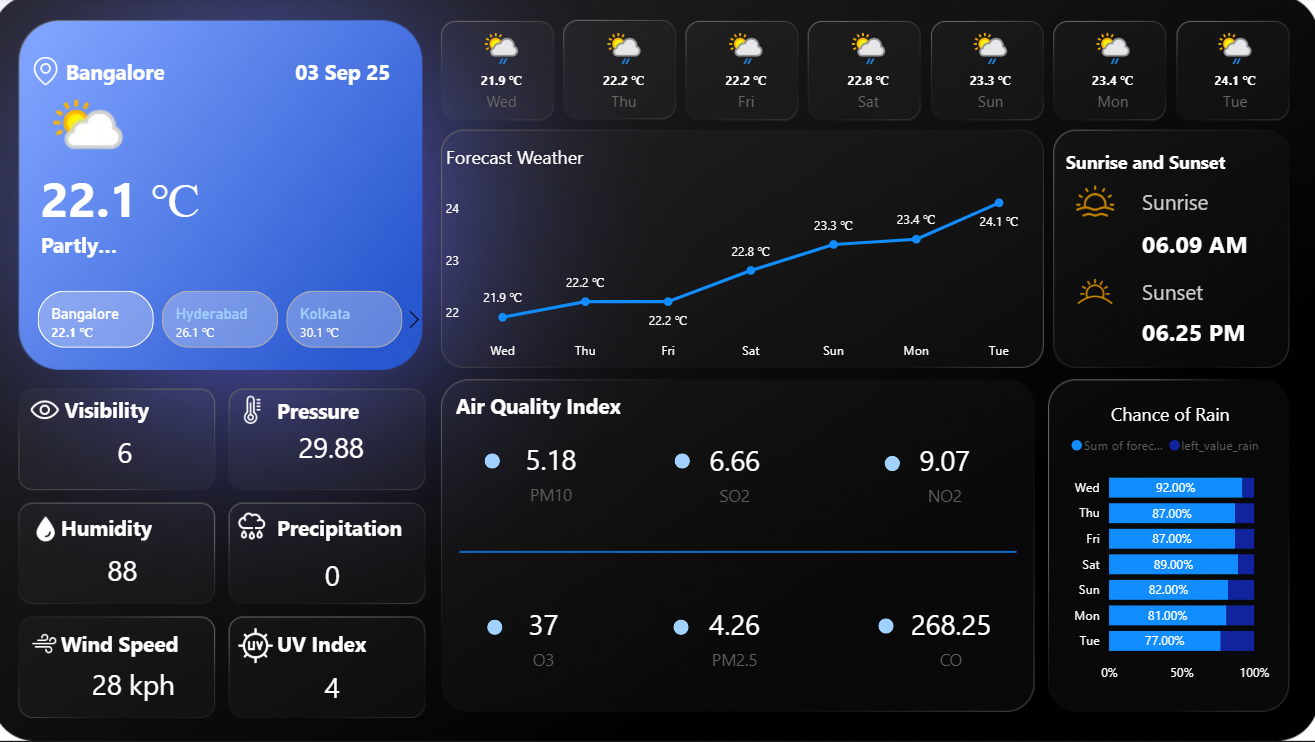

The page's visual inventory and layout, read from the dashboard file:
{"tool":"powerbi","page":{"name":"Page 1","canvas":[1280,720],"ordinal":0},"visuals":[{"type":"advancedSlicerVisual","fields":{"Values":["Locations.location.name"]},"box":[19.7,278.7,403.3,65.4],"z":0},{"type":"shape","box":[47.1,117.9,256.4,150.3],"z":1000},{"type":"shape","box":[47.1,219.5,116.4,36.8],"z":2000},{"type":"shape","box":[70.7,53,116.4,36.8],"z":3000},{"type":"shape","box":[268.1,53,116.4,36.8],"z":4000},{"type":"image","box":[32.4,53,38.3,36.8],"z":5000},{"type":"cardVisual","fields":{"Data":["Min(current.current.condition.icon)"]},"box":[32.1,71.5,106.1,102.4],"z":6000},{"type":"image","box":[18.5,377.4,65.4,41.9],"z":7000},{"type":"shape","box":[70.3,382.3,108.5,30.8],"z":8000},{"type":"image","box":[32.1,495.8,38.2,35.8],"z":9000},{"type":"image","box":[228.2,379.9,46.9,37],"z":10000},{"type":"image","box":[21,606.8,60.4,34.5],"z":11000},{"type":"image","box":[214.6,603.1,78.9,45.6],"z":12000},{"type":"image","box":[214.6,489.7,72.8,41.9],"z":13000},{"type":"shape","box":[275,493.4,124.6,37],"z":14000},{"type":"shape","box":[66.6,608.1,119.6,30.8],"z":15000},{"type":"shape","box":[66.6,495.8,108.5,30.8],"z":16000},{"type":"shape","box":[275,383.6,108.5,30.8],"z":17000},{"type":"shape","box":[275,608.1,108.5,30.8],"z":18000},{"type":"card","fields":{"Values":["Sum(current.current.humidity)"]},"box":[82.6,526.7,87.6,55.5],"z":19000},{"type":"card","fields":{"Values":["_Measures.wind_speed"]},"box":[85.6,641.4,101.7,44.7],"z":20000},{"type":"card","fields":{"Values":["Sum(current.current.precip_in)"]},"box":[284.9,531.6,87.6,55.5],"z":21000},{"type":"card","fields":{"Values":["Sum(current.current.pressure_in)"]},"box":[283.7,408.2,87.6,55.5],"z":22000},{"type":"card","fields":{"Values":["Sum(current.current.vis_km)"]},"box":[83.9,413.2,87.6,55.5],"z":23000},{"type":"card","fields":{"Values":["Sum(current.current.uv)"]},"box":[284.9,638.9,87.6,55.5],"z":24000},{"type":"advancedSlicerVisual","fields":{"Values":["forecast_day.day_name"]},"box":[431.3,23.2,828.5,94.2],"z":25000},{"type":"lineChart","title":"Forecast Weather","fields":{"Y":["Sum(forecast_day.forecast.forecastday.day.avgtemp_c)"],"Category":["forecast_day.day_name"]},"box":[432.7,141.9,576,217],"z":26000},{"type":"shape","box":[1036,141.9,169.2,31.4],"z":27000},{"type":"shape","box":[1109.7,214.3,139.2,46.4],"z":28000},{"type":"shape","box":[1109.7,296.2,139.2,50.5],"z":29000},{"type":"shape","box":[1109.7,173.3,109.2,46.4],"z":30000},{"type":"shape","box":[1109.7,260.7,109.2,46.4],"z":31000},{"type":"image","box":[1008.7,256.6,111.9,54.6],"z":32000},{"type":"image","box":[1037.3,173.3,54.6,46.4],"z":33000},{"type":"hundredPercentStackedBarChart","title":"Chance of Rain","fields":{"Y":["Sum(forecast_day.forecast.forecastday.day.daily_chance_of_rain)","current.left_value_rain"],"Category":["forecast_day.day_name"]},"box":[1036,390.4,202,279.8],"z":34000},{"type":"shape","box":[447.7,379.4,181.5,28.7],"z":35000},{"type":"card","fields":{"Values":["Sum(current.current.air_quality.pm10)"]},"box":[490,423.1,99.6,69.6],"z":36000},{"type":"card","fields":{"Values":["Sum(current.current.air_quality.o3)"]},"box":[483.2,582.8,99.6,69.6],"z":37000},{"type":"card","fields":{"Values":["Sum(current.current.air_quality.no2)"]},"box":[869.4,424.5,99.6,69.6],"z":38000},{"type":"card","fields":{"Values":["Sum(current.current.air_quality.so2)"]},"box":[667.4,424.5,99.6,69.6],"z":39000},{"type":"card","fields":{"Values":["Sum(current.current.air_quality.pm2_5)"]},"box":[667.4,582.8,99.6,69.6],"z":40000},{"type":"card","fields":{"Values":["Sum(current.current.air_quality.co)"]},"box":[876.3,582.8,99.6,69.6],"z":41000},{"type":"shape","box":[475,440.9,15,15],"z":42000},{"type":"shape","box":[451.8,490,537.8,91.4],"z":43000},{"type":"shape","box":[657.9,600.6,15,15],"z":44000},{"type":"shape","box":[861.3,442.2,15,15],"z":45000},{"type":"shape","box":[659.2,440.9,15,15],"z":46000},{"type":"shape","box":[477.7,600.6,15,15],"z":47000},{"type":"shape","box":[855.8,599.2,15,15],"z":48000}]}

Visuals, with their boxes in screenshot pixels (x1, y1, x2, y2), scaled from the page's 1280x720 canvas onto the 1315x742 screenshot:
advancedSlicerVisual - Locations.location.name: <bbox>20, 287, 435, 355</bbox>
shape: <bbox>48, 122, 312, 276</bbox>
shape: <bbox>48, 226, 168, 264</bbox>
shape: <bbox>73, 55, 192, 93</bbox>
shape: <bbox>275, 55, 395, 93</bbox>
image: <bbox>33, 55, 73, 93</bbox>
cardVisual - Min(current.current.condition.icon): <bbox>33, 74, 142, 179</bbox>
image: <bbox>19, 389, 86, 432</bbox>
shape: <bbox>72, 394, 184, 426</bbox>
image: <bbox>33, 511, 72, 548</bbox>
image: <bbox>234, 392, 283, 430</bbox>
image: <bbox>22, 625, 84, 661</bbox>
image: <bbox>220, 622, 302, 669</bbox>
image: <bbox>220, 505, 295, 548</bbox>
shape: <bbox>283, 508, 411, 547</bbox>
shape: <bbox>68, 627, 191, 658</bbox>
shape: <bbox>68, 511, 180, 543</bbox>
shape: <bbox>283, 395, 394, 427</bbox>
shape: <bbox>283, 627, 394, 658</bbox>
card - Sum(current.current.humidity): <bbox>85, 543, 175, 600</bbox>
card - _Measures.wind_speed: <bbox>88, 661, 192, 707</bbox>
card - Sum(current.current.precip_in): <bbox>293, 548, 383, 605</bbox>
card - Sum(current.current.pressure_in): <bbox>291, 421, 381, 478</bbox>
card - Sum(current.current.vis_km): <bbox>86, 426, 176, 483</bbox>
card - Sum(current.current.uv): <bbox>293, 658, 383, 716</bbox>
advancedSlicerVisual - forecast_day.day_name: <bbox>443, 24, 1294, 121</bbox>
"Forecast Weather" lineChart: <bbox>445, 146, 1036, 370</bbox>
shape: <bbox>1064, 146, 1238, 179</bbox>
shape: <bbox>1140, 221, 1283, 269</bbox>
shape: <bbox>1140, 305, 1283, 357</bbox>
shape: <bbox>1140, 179, 1252, 226</bbox>
shape: <bbox>1140, 269, 1252, 316</bbox>
image: <bbox>1036, 264, 1151, 321</bbox>
image: <bbox>1066, 179, 1122, 226</bbox>
"Chance of Rain" hundredPercentStackedBarChart: <bbox>1064, 402, 1272, 691</bbox>
shape: <bbox>460, 391, 646, 421</bbox>
card - Sum(current.current.air_quality.pm10): <bbox>503, 436, 606, 508</bbox>
card - Sum(current.current.air_quality.o3): <bbox>496, 601, 599, 672</bbox>
card - Sum(current.current.air_quality.no2): <bbox>893, 437, 995, 509</bbox>
card - Sum(current.current.air_quality.so2): <bbox>686, 437, 788, 509</bbox>
card - Sum(current.current.air_quality.pm2_5): <bbox>686, 601, 788, 672</bbox>
card - Sum(current.current.air_quality.co): <bbox>900, 601, 1003, 672</bbox>
shape: <bbox>488, 454, 503, 470</bbox>
shape: <bbox>464, 505, 1017, 599</bbox>
shape: <bbox>676, 619, 691, 634</bbox>
shape: <bbox>885, 456, 900, 471</bbox>
shape: <bbox>677, 454, 693, 470</bbox>
shape: <bbox>491, 619, 506, 634</bbox>
shape: <bbox>879, 618, 895, 633</bbox>
